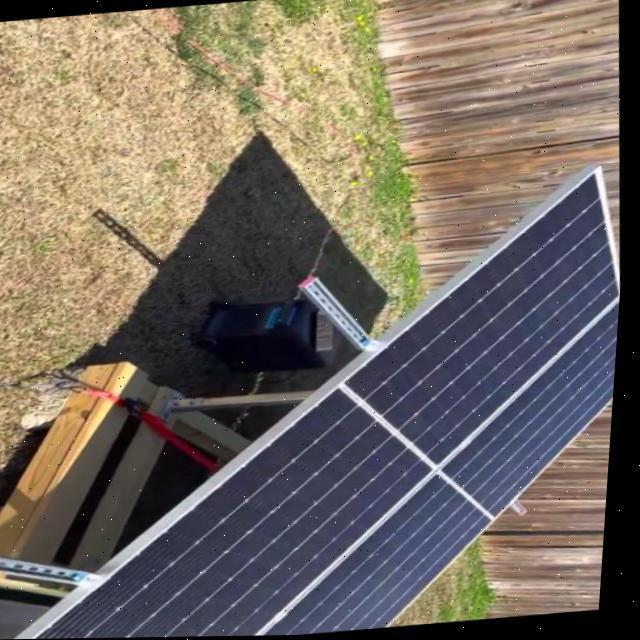Normal Solar Panel: (0, 163, 631, 640)
